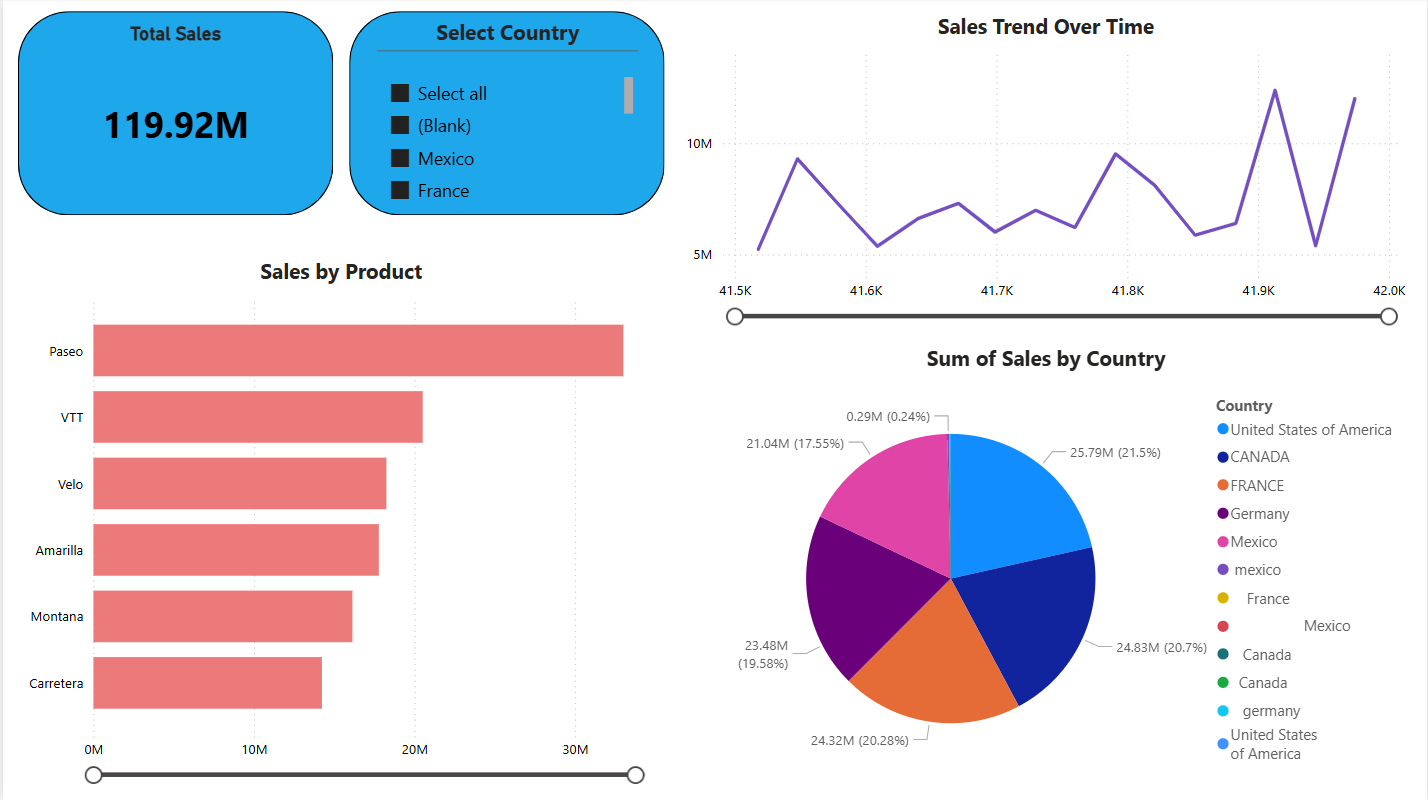

What the dashboard file says about the page in this screenshot:
{"tool":"powerbi","page":{"name":"Financial Sales Dashboard","canvas":[1280,720],"ordinal":0},"visuals":[{"type":"clusteredBarChart","title":"Sales by Product","fields":{"Category":["Data.Product"],"Y":["Sum(Data. Sales)"]},"box":[13.9,230.4,581,477.2],"z":0},{"type":"lineChart","title":"Sales Trend Over Time","fields":{"Category":["Data.Date"],"Y":["Sum(Data. Sales)"]},"box":[608.9,10.1,657,284.8],"z":1000},{"type":"pieChart","title":"Sales by Country","fields":{"Category":["Data.Country"],"Y":["Sum(Data. Sales)"]},"box":[608.9,316.5,657,391.1],"z":2000},{"type":"shape","title":"Total Sales","box":[13.9,10.1,283.5,183.5],"z":3000},{"type":"shape","box":[311.4,10.1,283.5,183.5],"z":4000},{"type":"card","title":"Total Sales","fields":{"Values":["Sum(Data. Sales)"]},"box":[24.1,20.3,263.3,164.6],"z":5000},{"type":"slicer","title":"Select Country","fields":{"Values":["Data.Country"]},"box":[335.4,15.2,235.4,174.7],"z":6000}]}

Visuals, with their boxes in screenshot pixels (x1, y1, x2, y2), scaled from the page's 1280x720 canvas onto the 1428x800 screenshot:
"Sales by Product" clusteredBarChart: 16, 256, 664, 786
"Sales Trend Over Time" lineChart: 679, 11, 1412, 328
"Sales by Country" pieChart: 679, 352, 1412, 786
"Total Sales" shape: 16, 11, 332, 215
shape: 347, 11, 664, 215
"Total Sales" card: 27, 23, 321, 205
"Select Country" slicer: 374, 17, 637, 211
